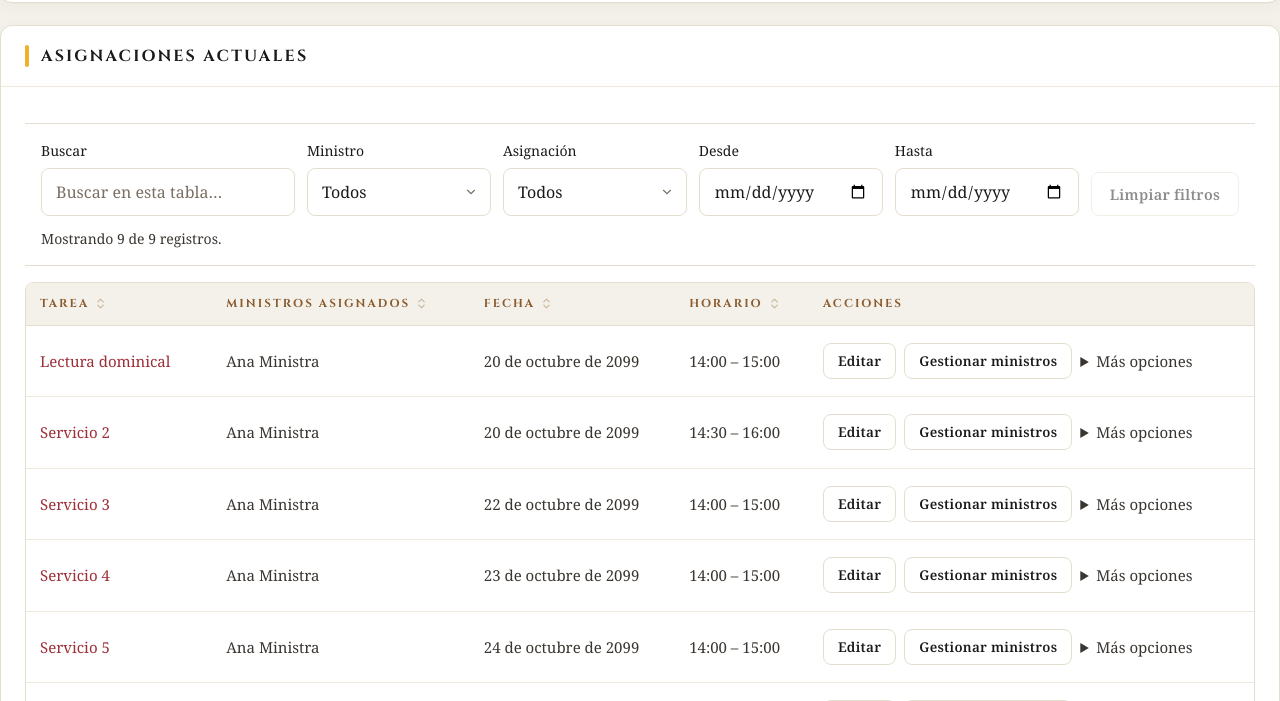
Test case: integración de tareas, asignaciones y permisos › valida el horario y conserva el modal cuando falla la edición
This screenshot has width=1280, height=701.
(page scrolled)
Click the 1st button "Editar" at (860, 361), box [823,343,896,379]
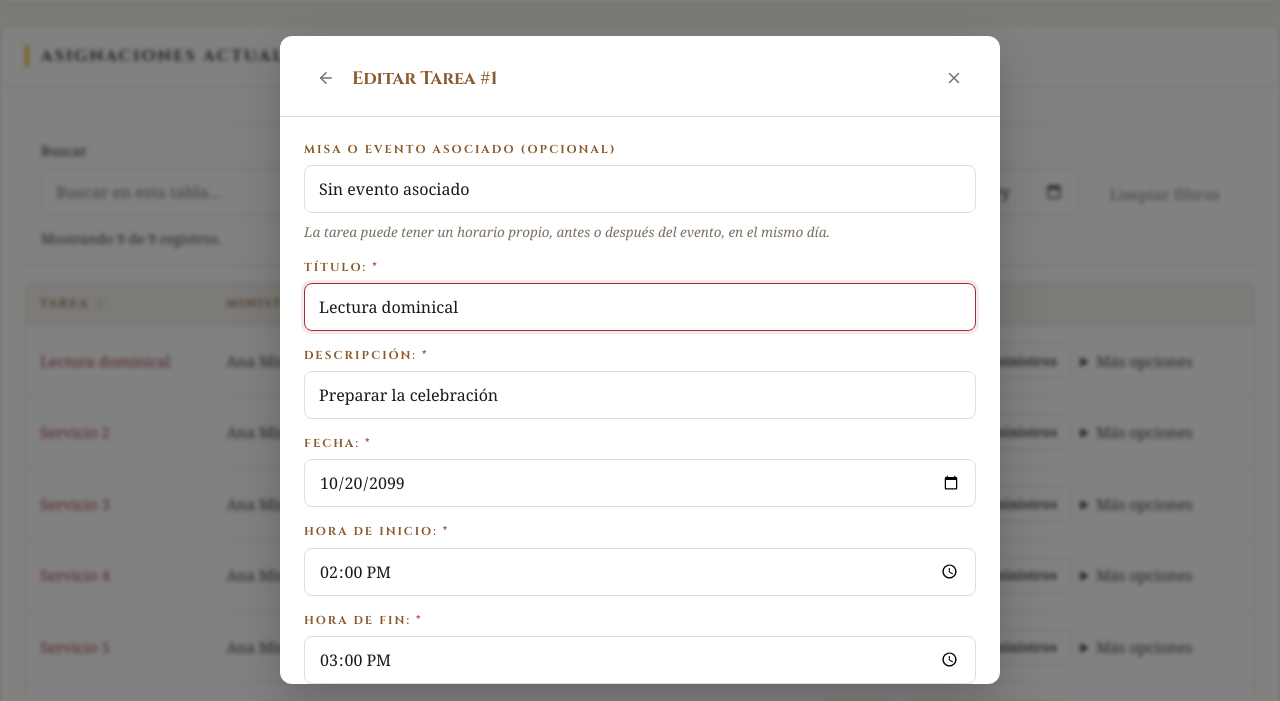
Replace the text in the time field labelled "Hora de Inicio:" with "17:00" at (640, 572), box [304,548,976,596]
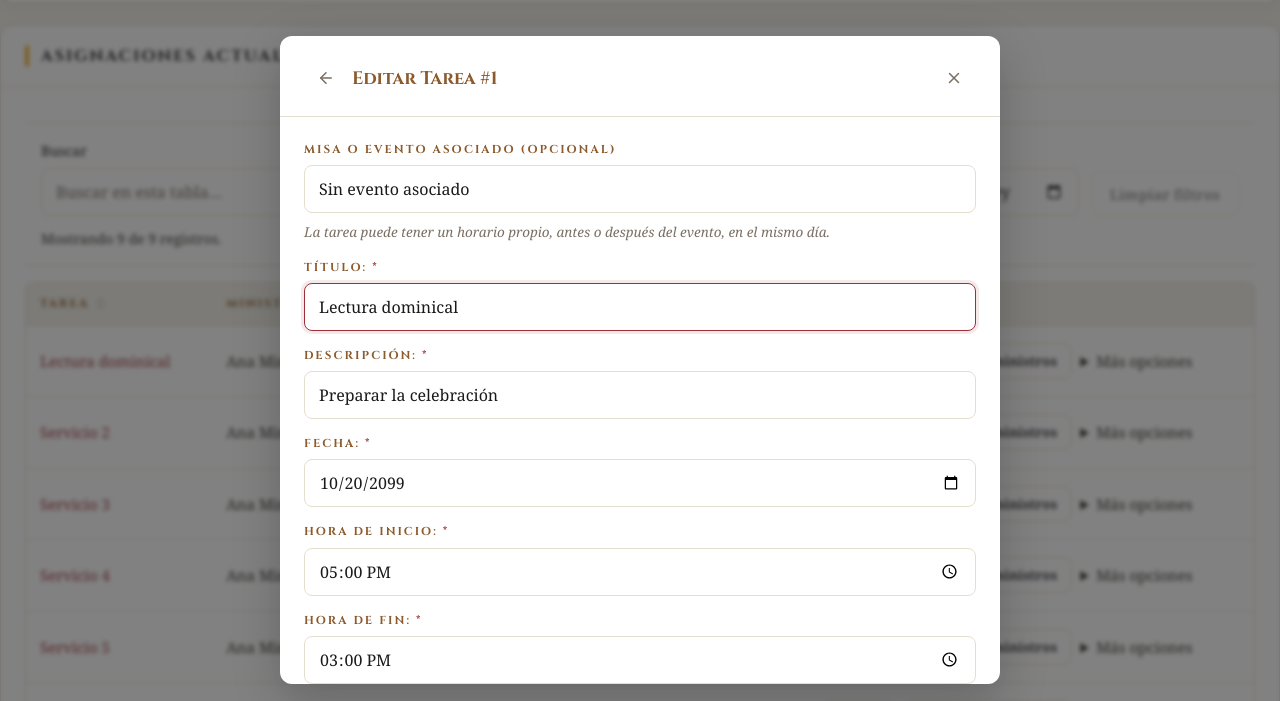
Replace the text in the time field labelled "Hora de Fin:" with "16:00" at (640, 660), box [304,636,976,684]
(page scrolled)
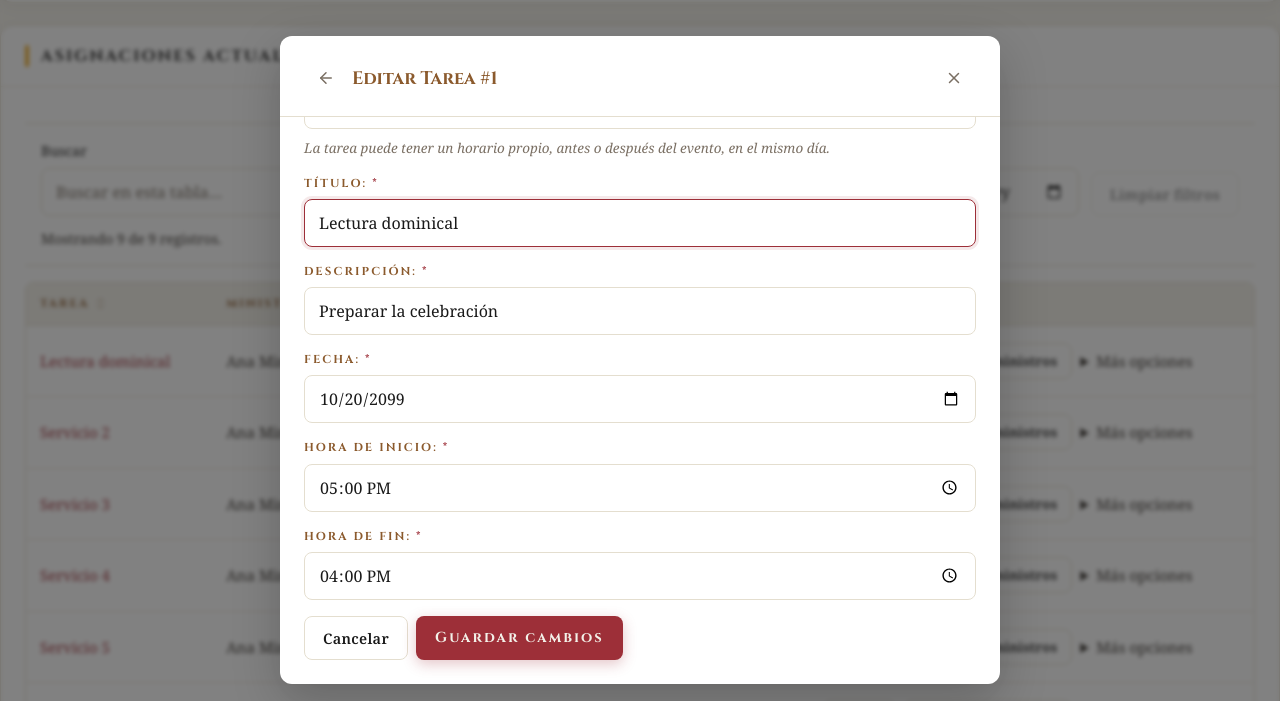
Click the button "Guardar cambios" at (519, 638), box [416,616,623,660]
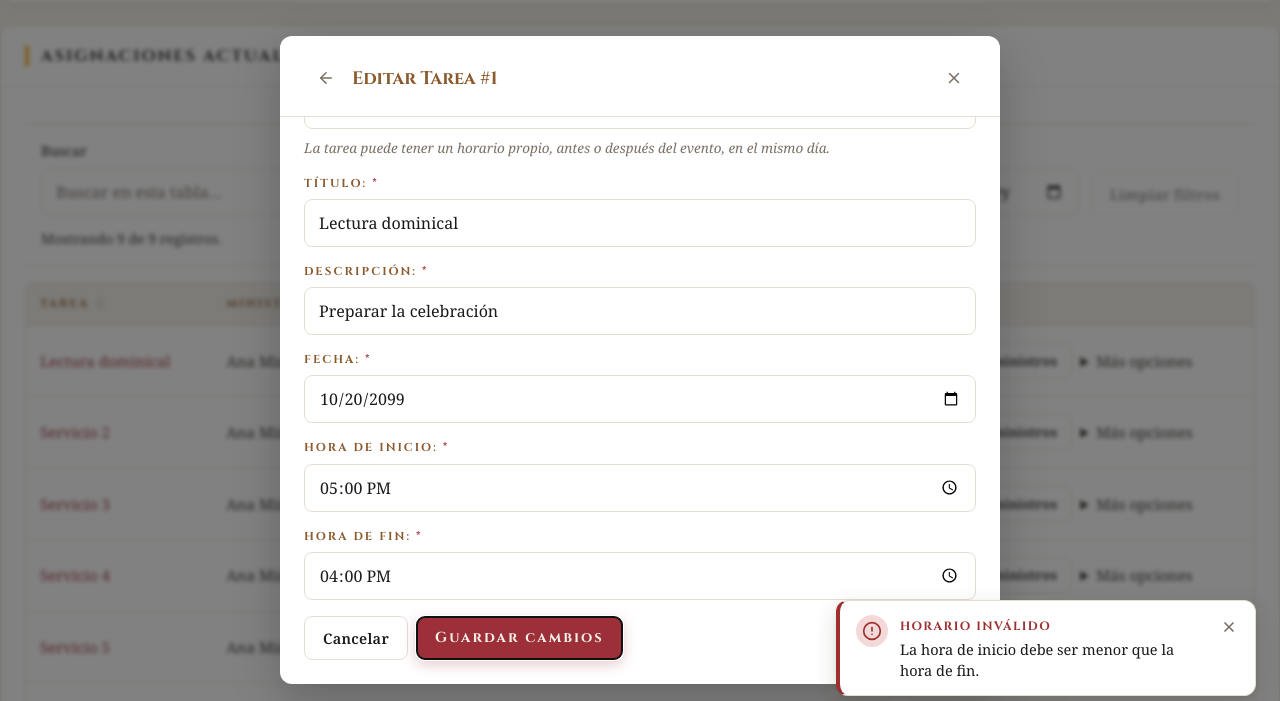
Expected: the message shows "Horario inválido", [900,618,1051,634]
Replace the text in the time field labelled "Hora de Inicio:" with "15:00" at (640, 488), box [304,464,976,512]
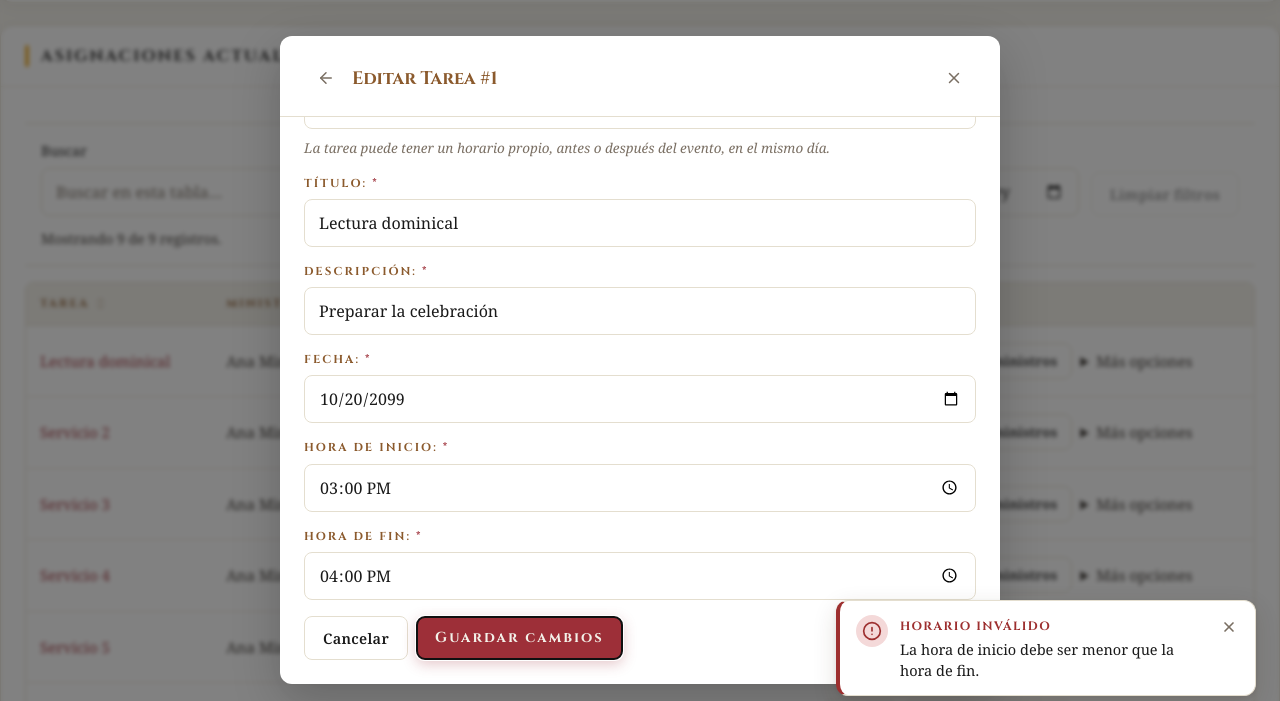
Click the button "Guardar cambios" at (519, 638), box [416,616,623,660]
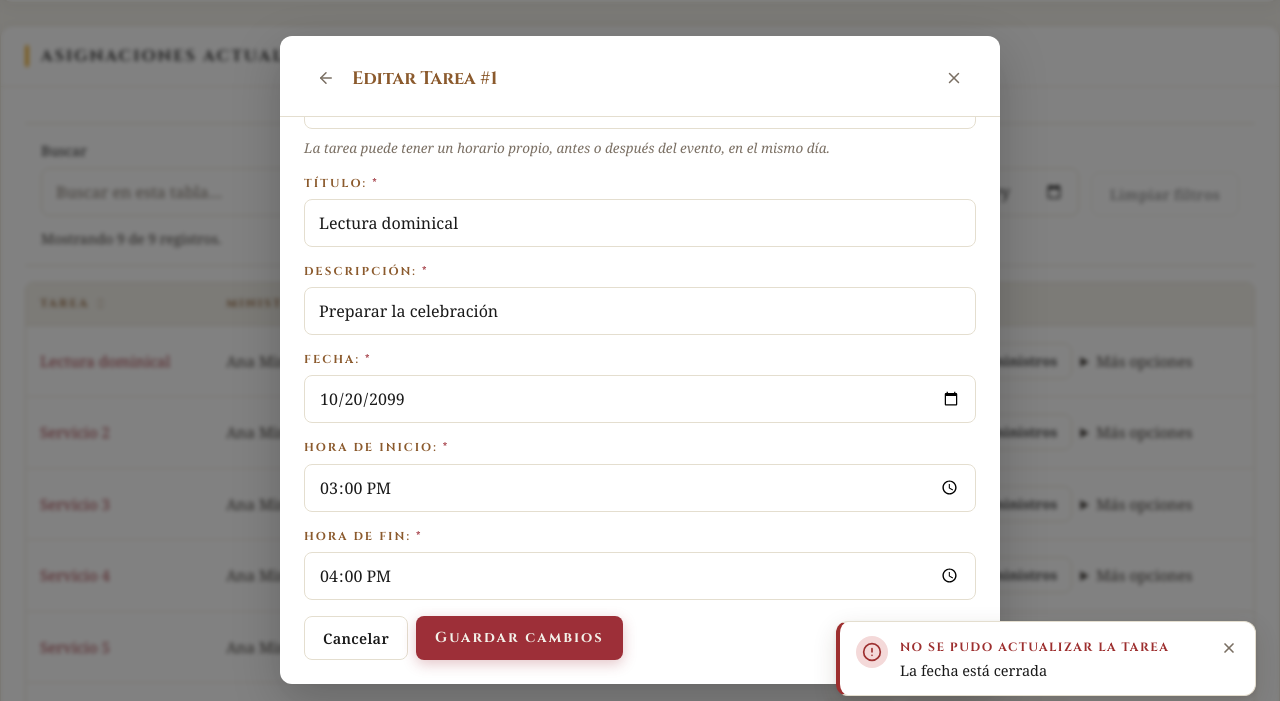
Expected: the heading "Editar Tarea #1" is shown, [352,66,498,90]
Expected: the message shows "La fecha está cerrada", [900,660,1047,680]
